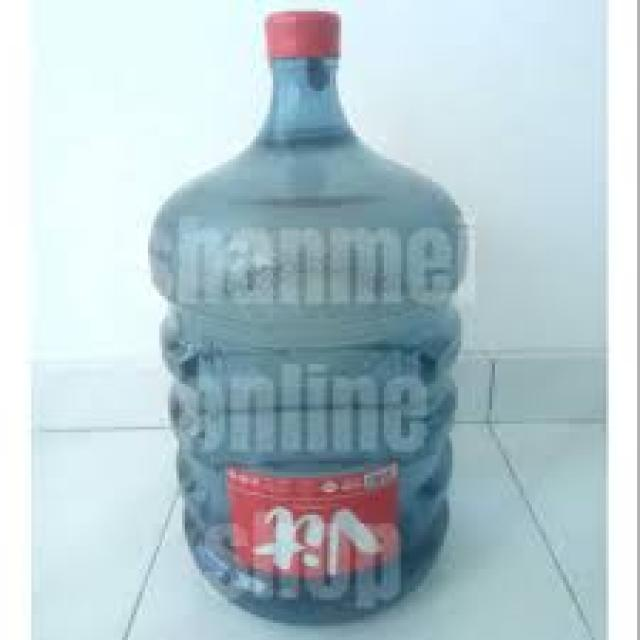Galon: (145, 6, 472, 623)
